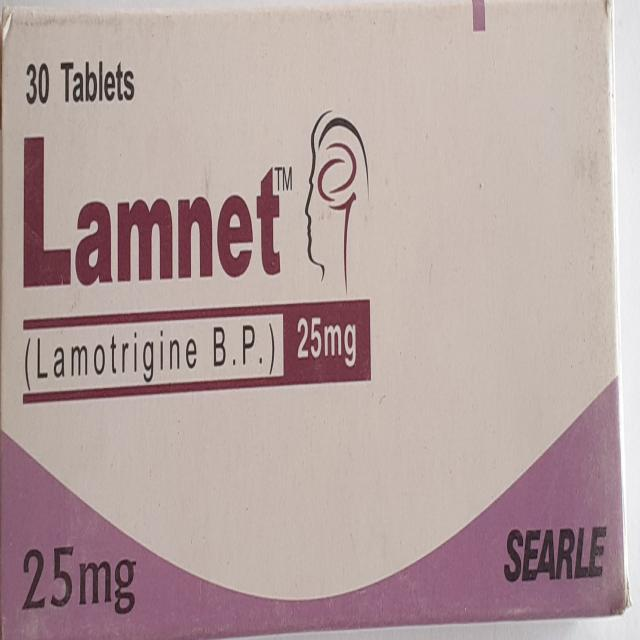drug-name: (19, 132, 288, 288)
